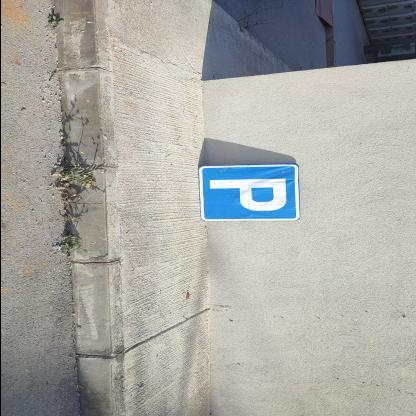Parking-Sign: (198, 163, 301, 223)
